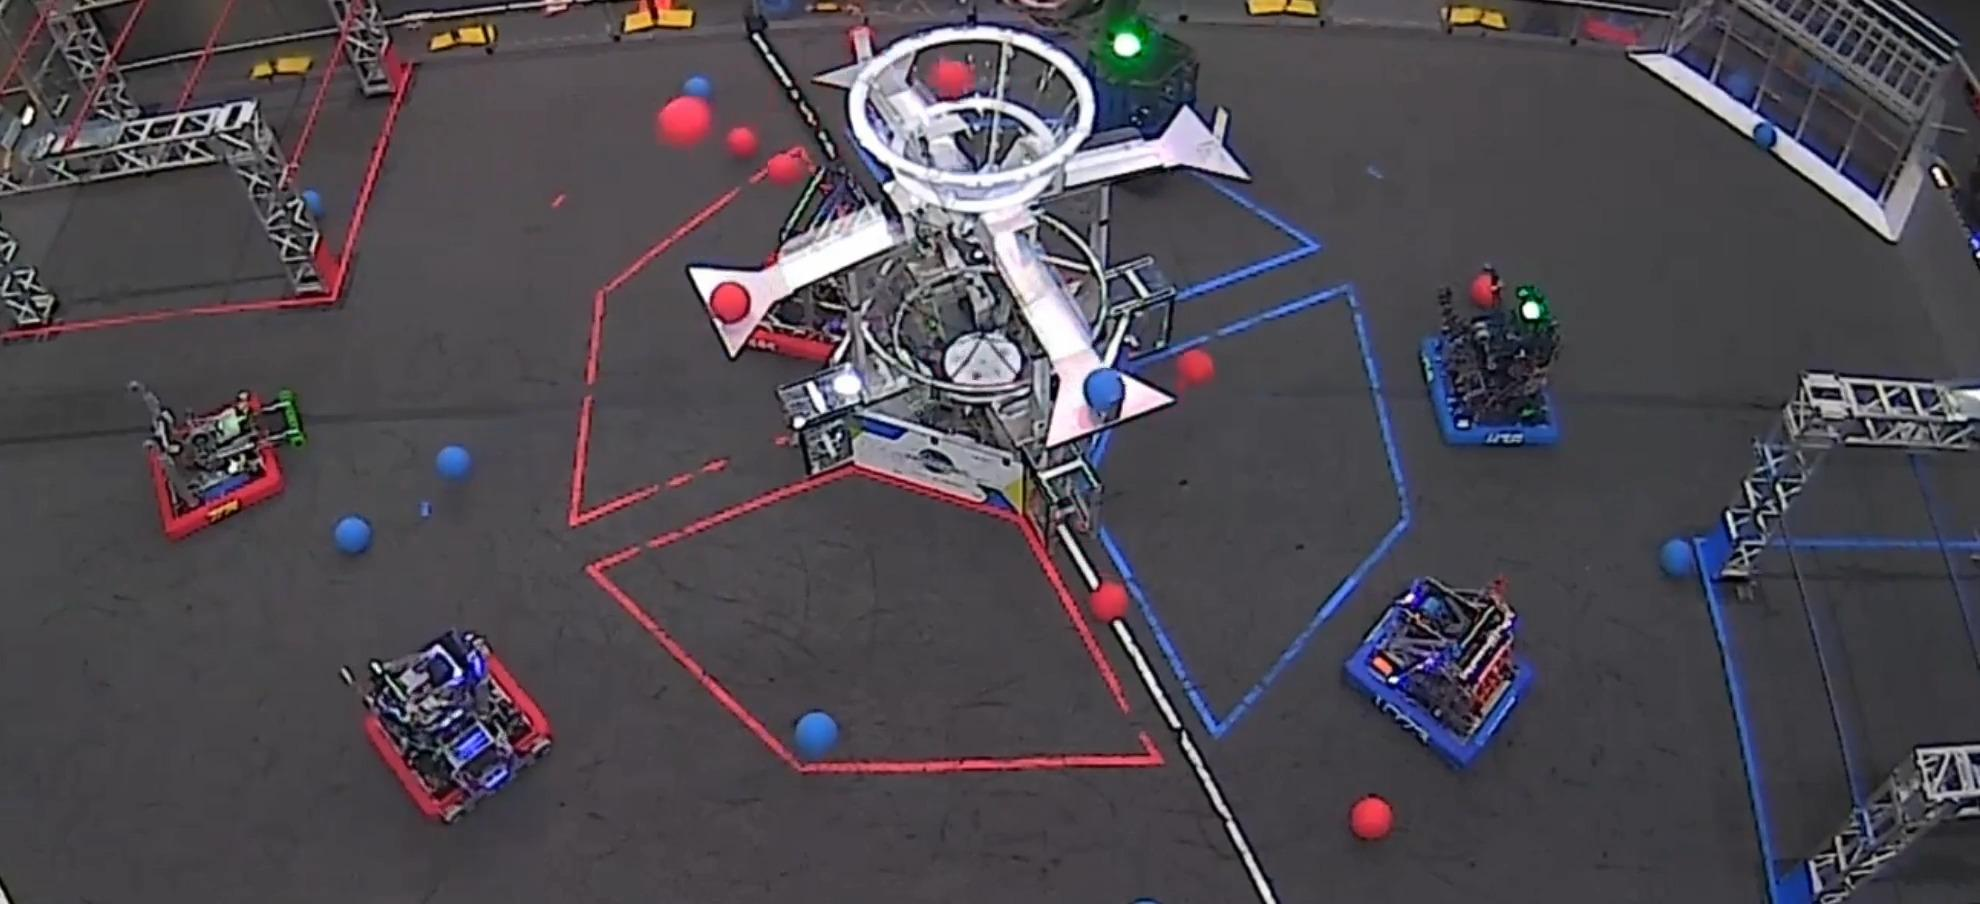Robots: (342, 631, 551, 822), (1347, 577, 1530, 766), (129, 381, 306, 539), (1424, 266, 1560, 444), (1076, 6, 1201, 189), (750, 280, 849, 362)
